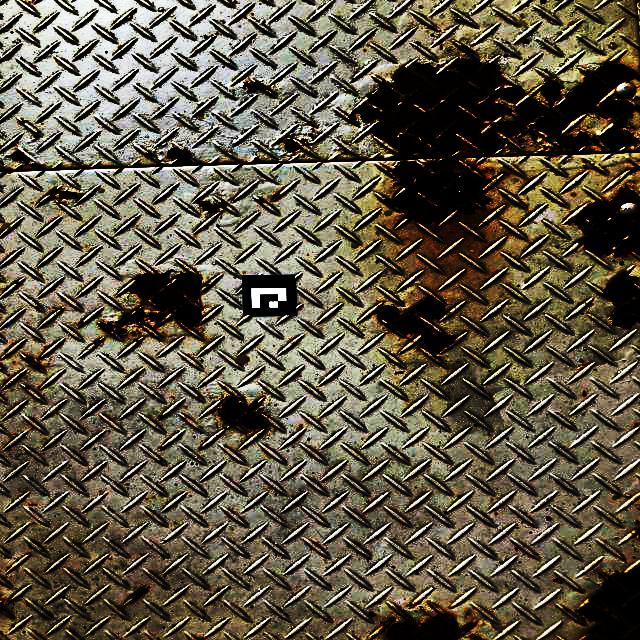Corrosion: (354, 58, 639, 157), (382, 157, 503, 226), (101, 271, 203, 337), (562, 564, 640, 640), (369, 297, 458, 363), (566, 186, 640, 257), (375, 611, 476, 640), (597, 269, 640, 329), (217, 393, 270, 431), (166, 147, 203, 166), (195, 200, 228, 214), (239, 81, 270, 95), (9, 151, 30, 164), (284, 139, 303, 153), (23, 357, 41, 370), (248, 157, 280, 164), (58, 190, 79, 200), (131, 587, 147, 599), (459, 45, 474, 55), (180, 264, 194, 274), (30, 162, 47, 170), (629, 167, 640, 177), (48, 188, 59, 198), (0, 603, 9, 614), (633, 525, 640, 539), (94, 338, 105, 346), (273, 191, 281, 201), (470, 634, 483, 640), (141, 153, 154, 157), (486, 166, 495, 171), (257, 199, 265, 204), (135, 338, 143, 343), (7, 169, 13, 174), (6, 599, 12, 604), (203, 282, 209, 287), (19, 120, 26, 124), (199, 445, 203, 451), (157, 460, 163, 464), (159, 415, 165, 419), (14, 281, 20, 285), (636, 520, 640, 526), (24, 386, 31, 389), (56, 202, 62, 205), (160, 446, 164, 450), (36, 306, 40, 310), (182, 418, 186, 420)
